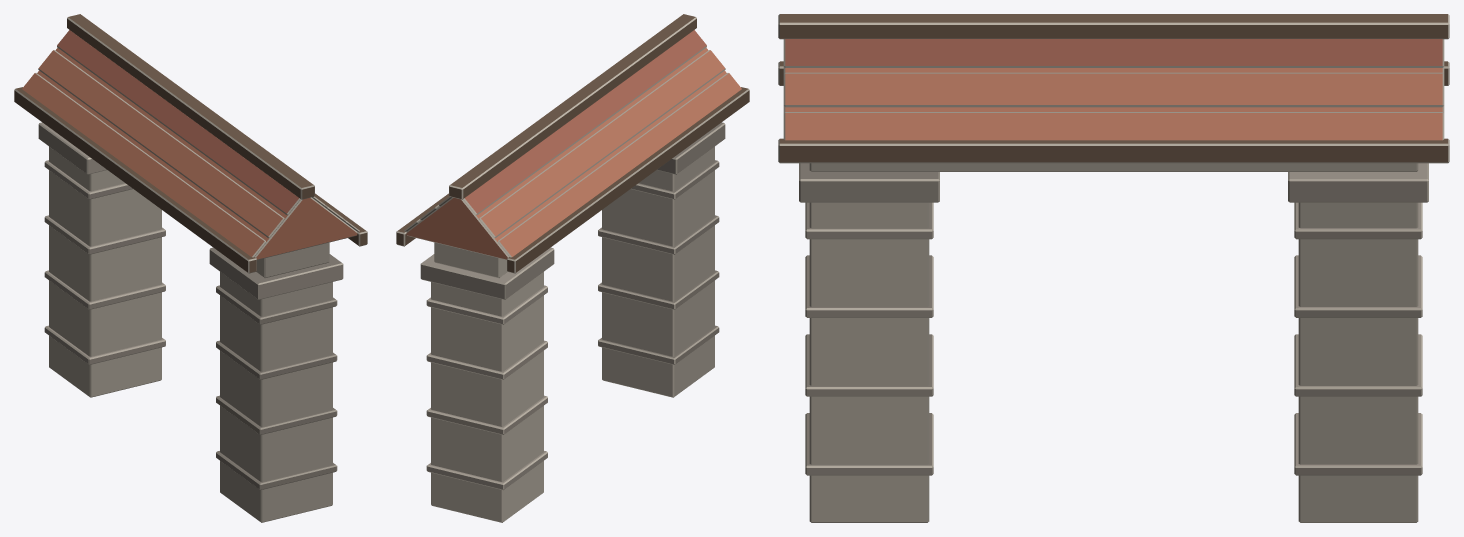
Rendered from SM_Kit_portao.fbx.
3 renders of one model, left to right at view 1: azimuth 30°, elevation 25°; view 2: azimuth 150°, elevation 25°; view 3: azimuth 270°, elevation 25°, orthographic. The views are drawn at different scales.
Parts seen in each view (by area): view 1: SM_Kit_portao; view 2: SM_Kit_portao; view 3: SM_Kit_portao.
Boxes of the visible parts, x1=… form: SM_Kit_portao: x1=14, y1=14, x2=367, y2=522; SM_Kit_portao: x1=396, y1=14, x2=749, y2=522; SM_Kit_portao: x1=778, y1=14, x2=1449, y2=522.
Size of what is drawn, in the model's own units: 182 by 488 by 618.
